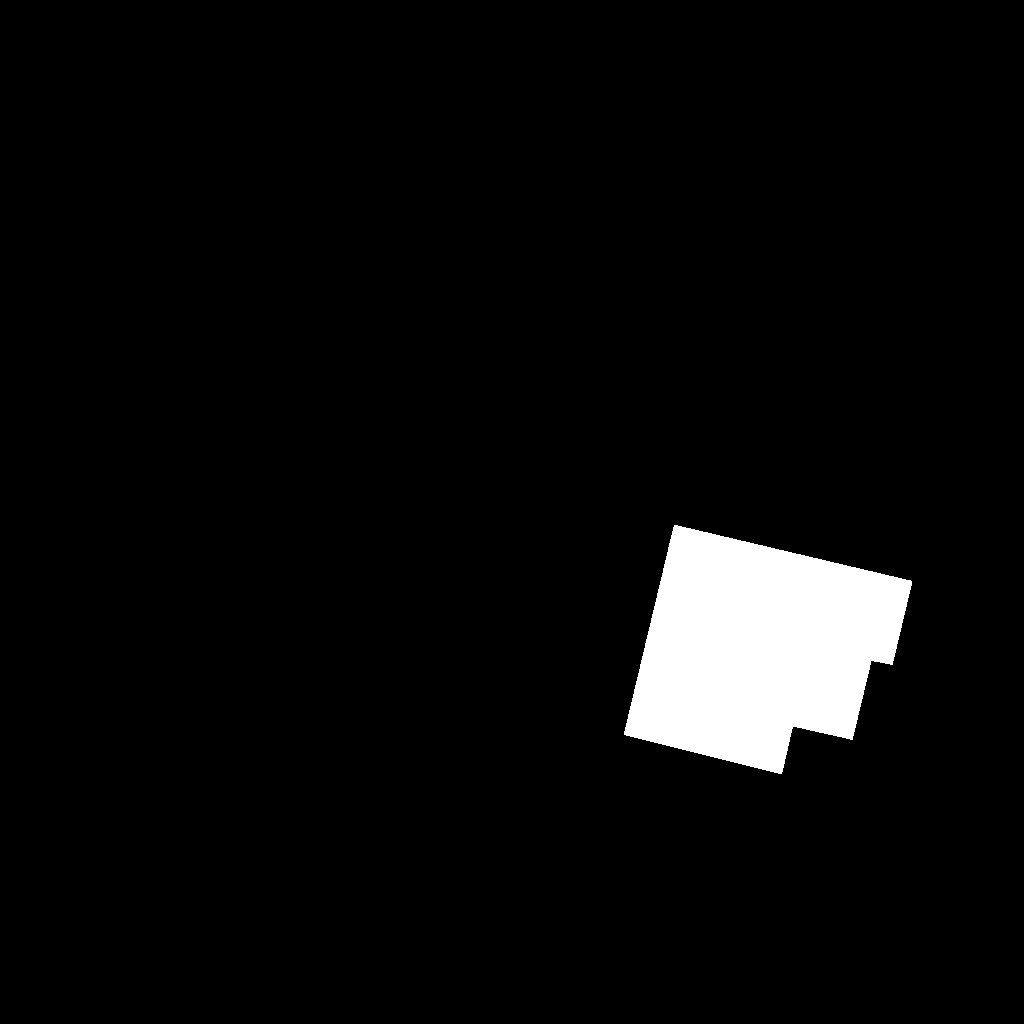building: (624, 525, 913, 775)
